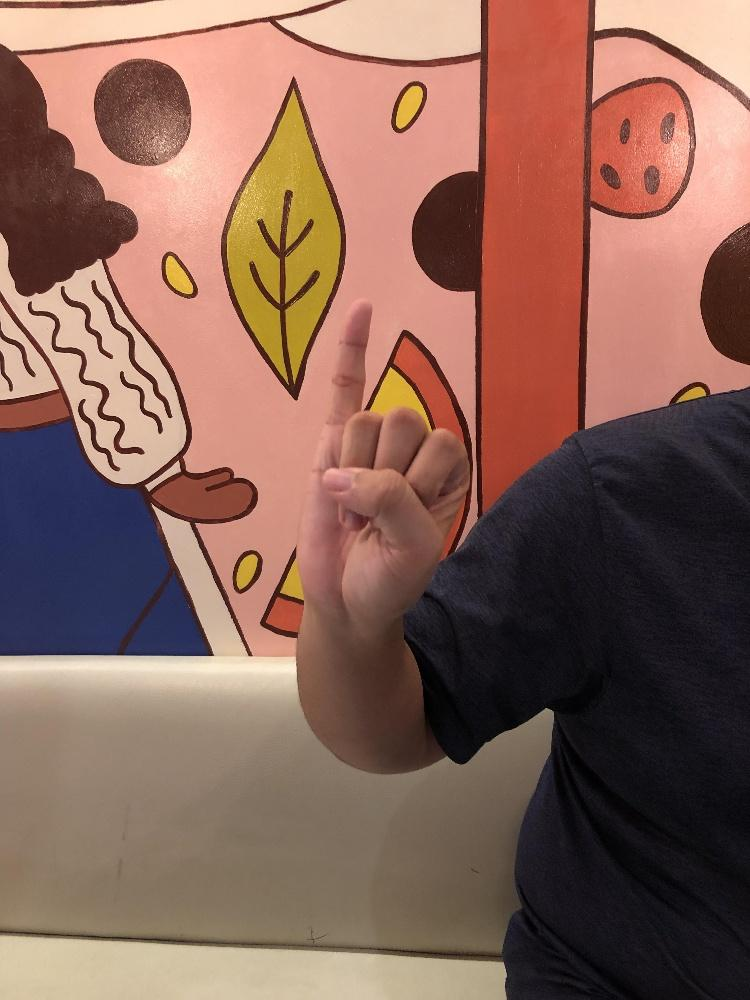i: (294, 295, 474, 624)
